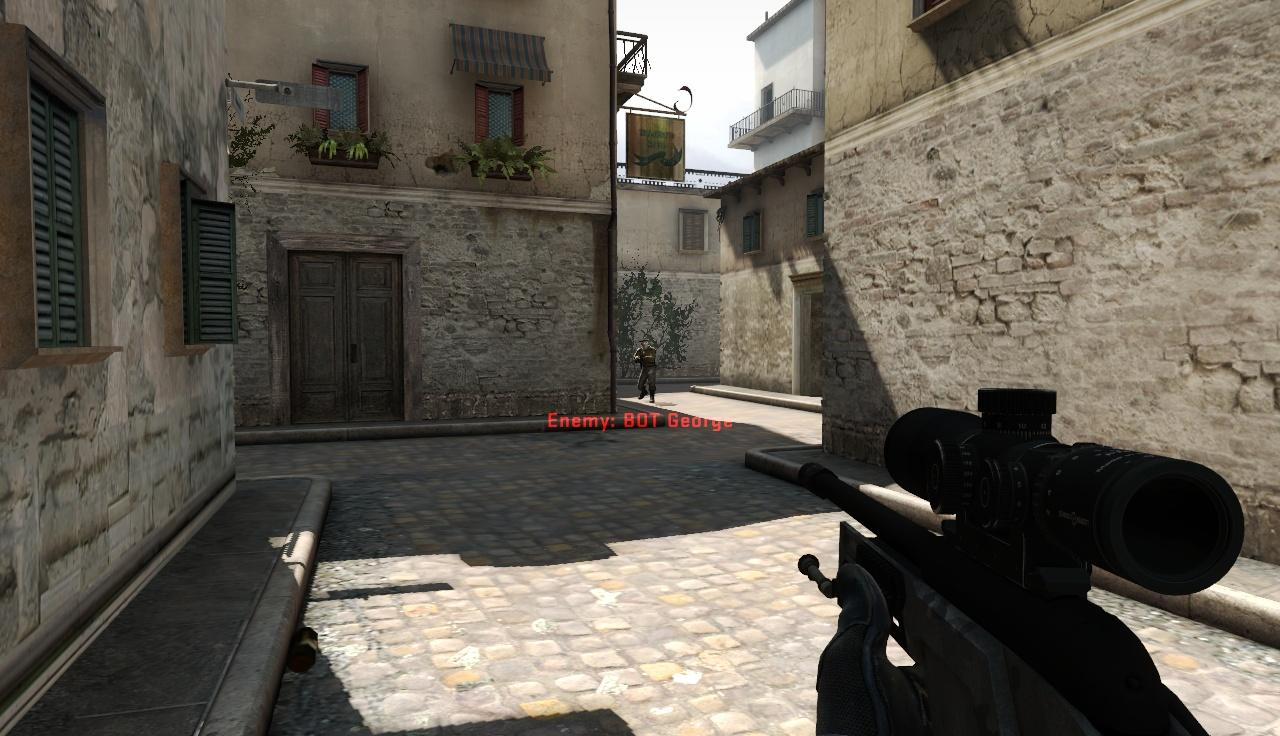sniper: (792, 381, 1245, 736)
tt: (636, 339, 657, 403)
tthead: (640, 340, 650, 350)
